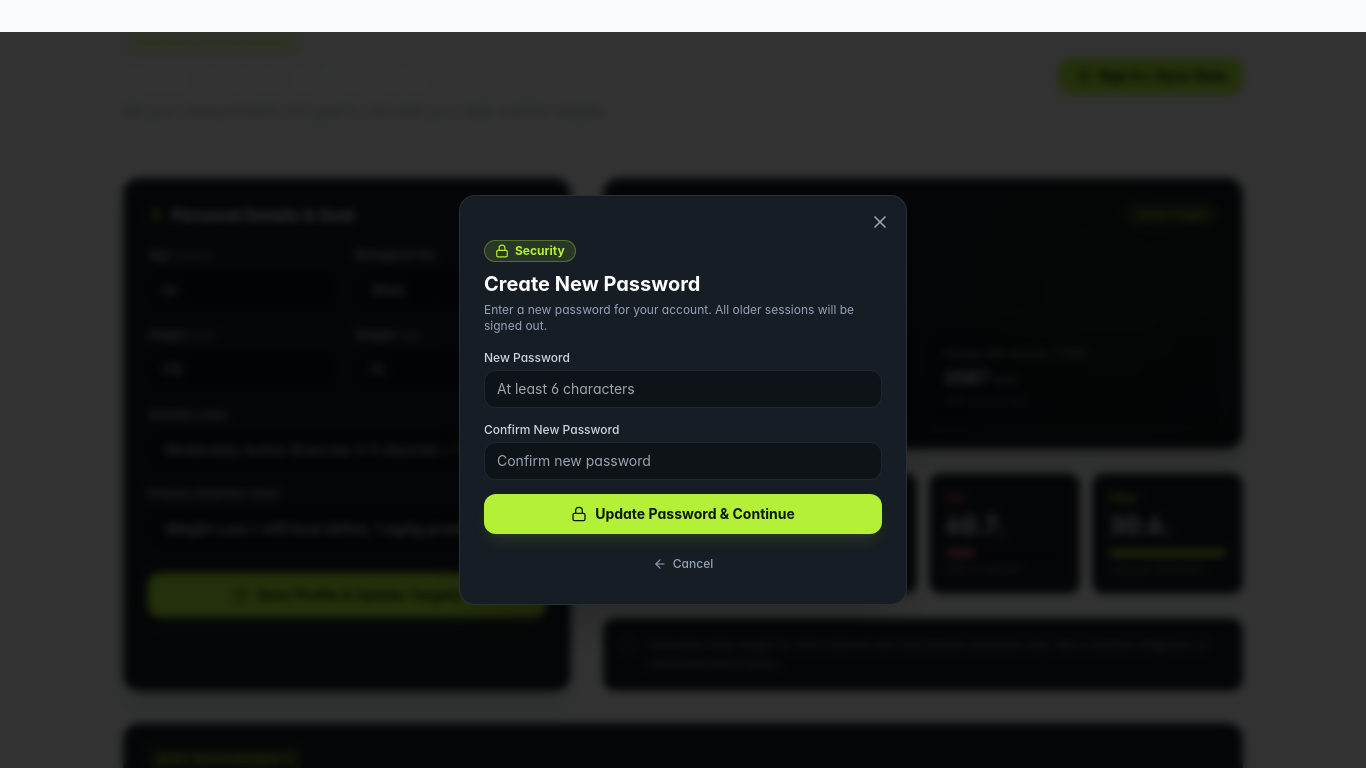
Test: Profile Auth Modal - Password Recovery & Account Linking › 5. URL reset_token parameter automatically opens reset-password mode
Expected: the heading "Create New Password" is shown, [484,272,700,296]
Step 1. Type "NewPass123!" into the password field labelled "New Password" → (683, 389), box [484,370,882,408]
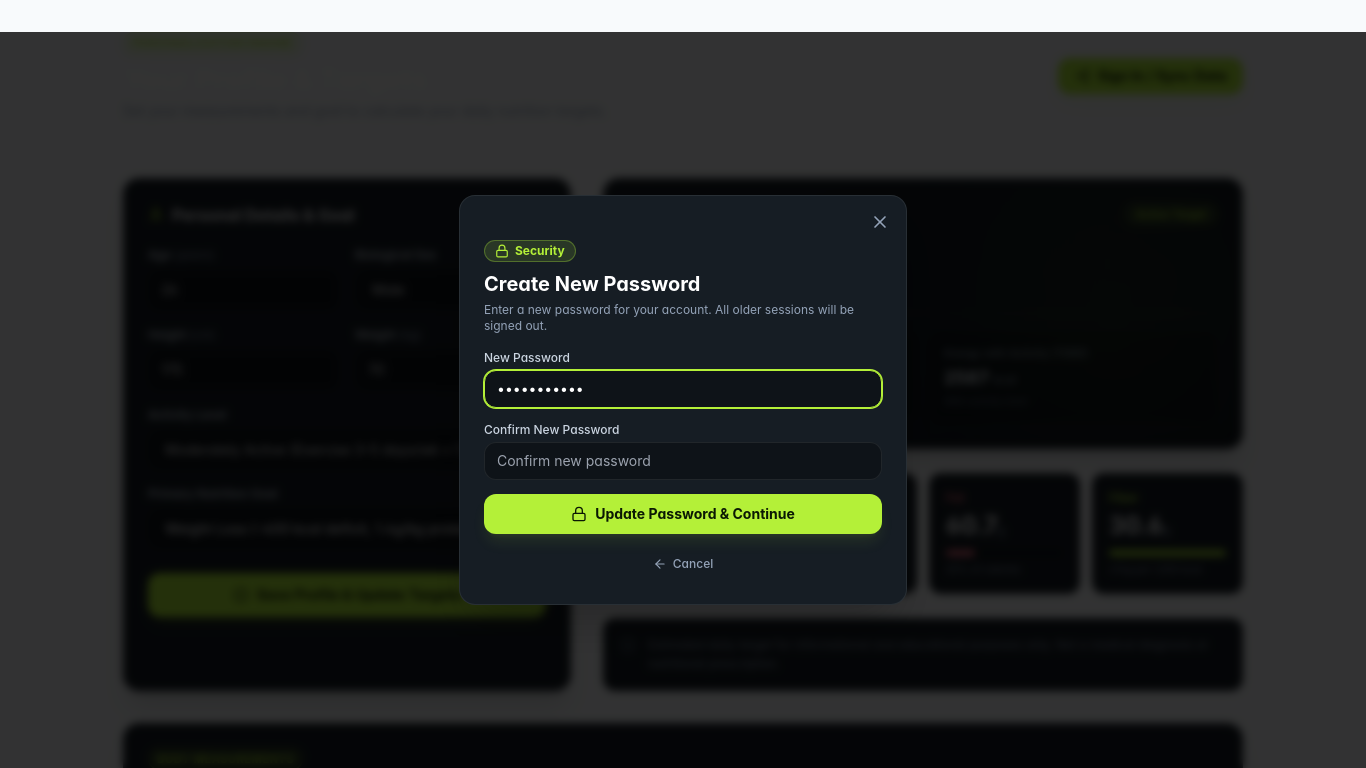
Step 2. Type "NewPass123!" into the password field labelled "Confirm New Password" → (683, 461), box [484,442,882,480]
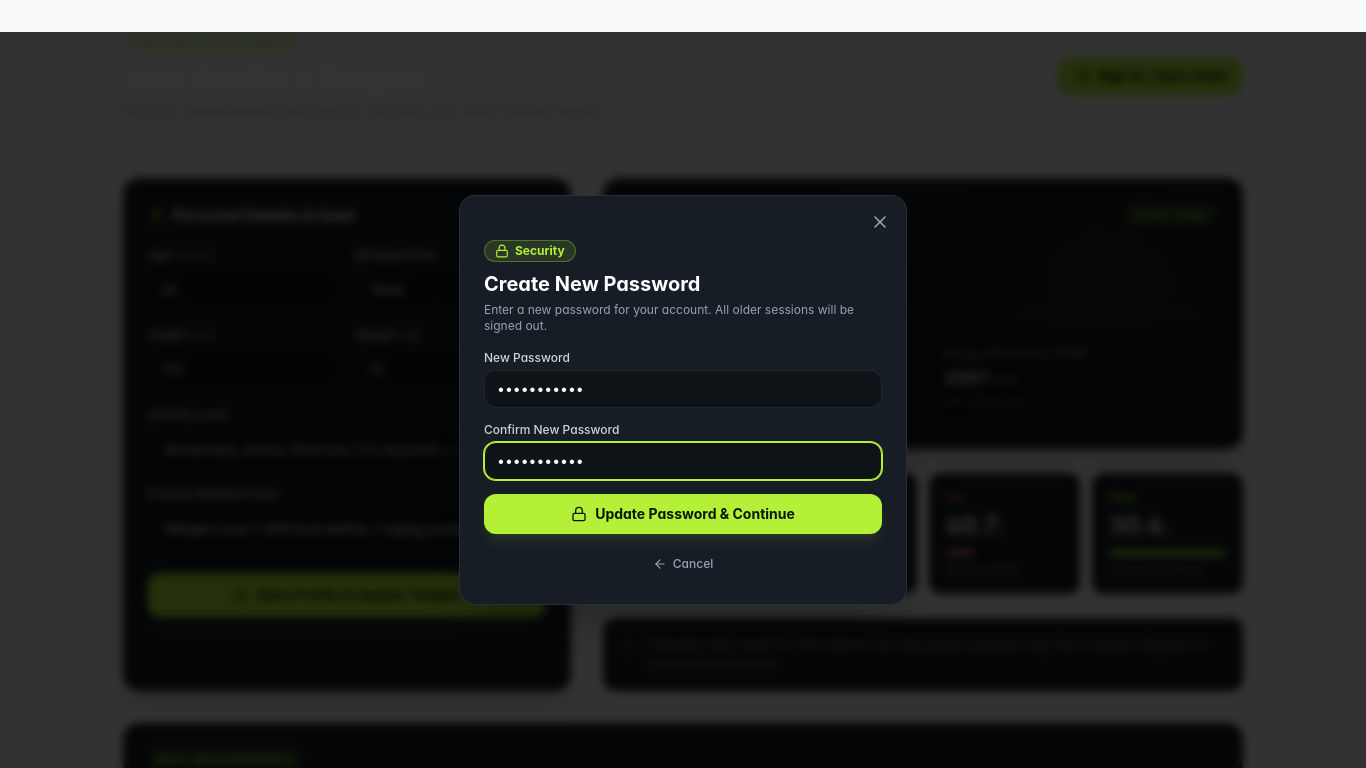
Step 3. Click the button "Update Password & Continue" → (683, 514), box [484,494,882,534]
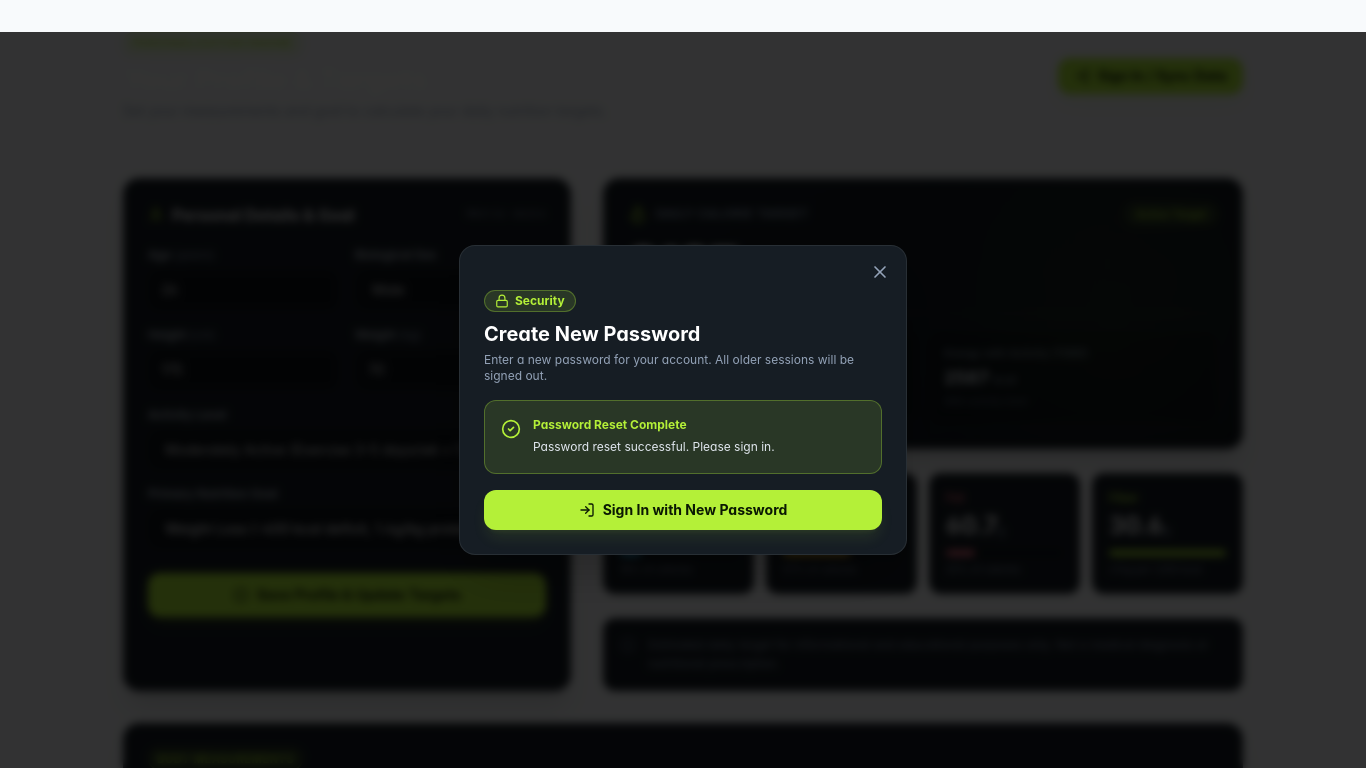
Now the text "Password Reset Complete" is shown, box [533,417,687,432]
